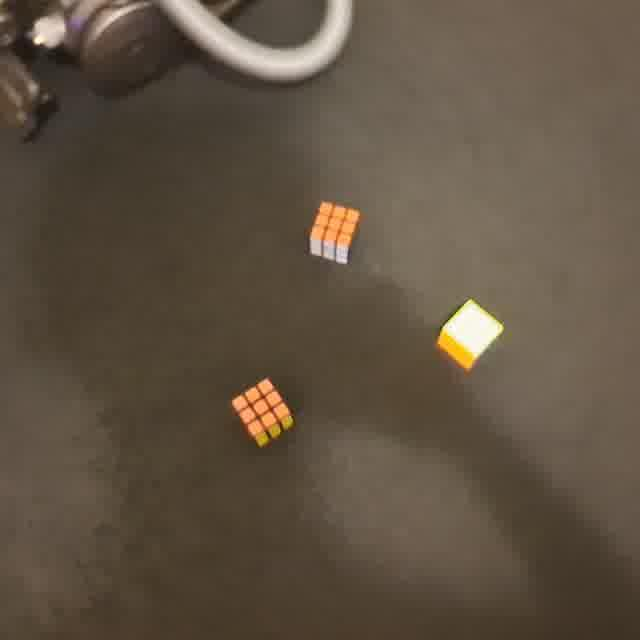rubix_cube: (434, 297, 504, 375), (229, 373, 296, 452), (305, 200, 363, 267)
